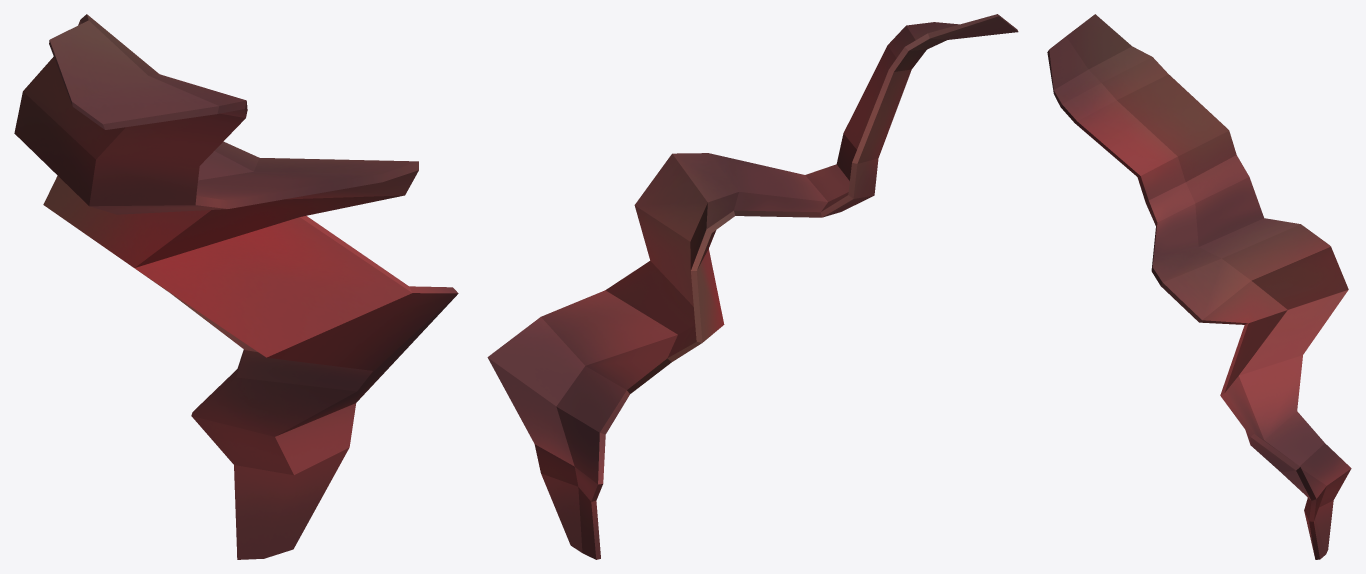
File: petite_algue_rouge.fbx
3 renders of one model, left to right at view 1: azimuth 30°, elevation 25°; view 2: azimuth 150°, elevation 25°; view 3: azimuth 270°, elevation 25°, orthographic. The views are drawn at different scales.
Visible parts, largest first — view 1: petite; view 2: petite; view 3: petite.
Part boxes in pixels (bbox=[...]): petite: bbox=[14, 14, 458, 559]; petite: bbox=[487, 14, 1018, 559]; petite: bbox=[1047, 14, 1351, 559].
Bounding box in the file's own units: 161 × 200 × 129.
